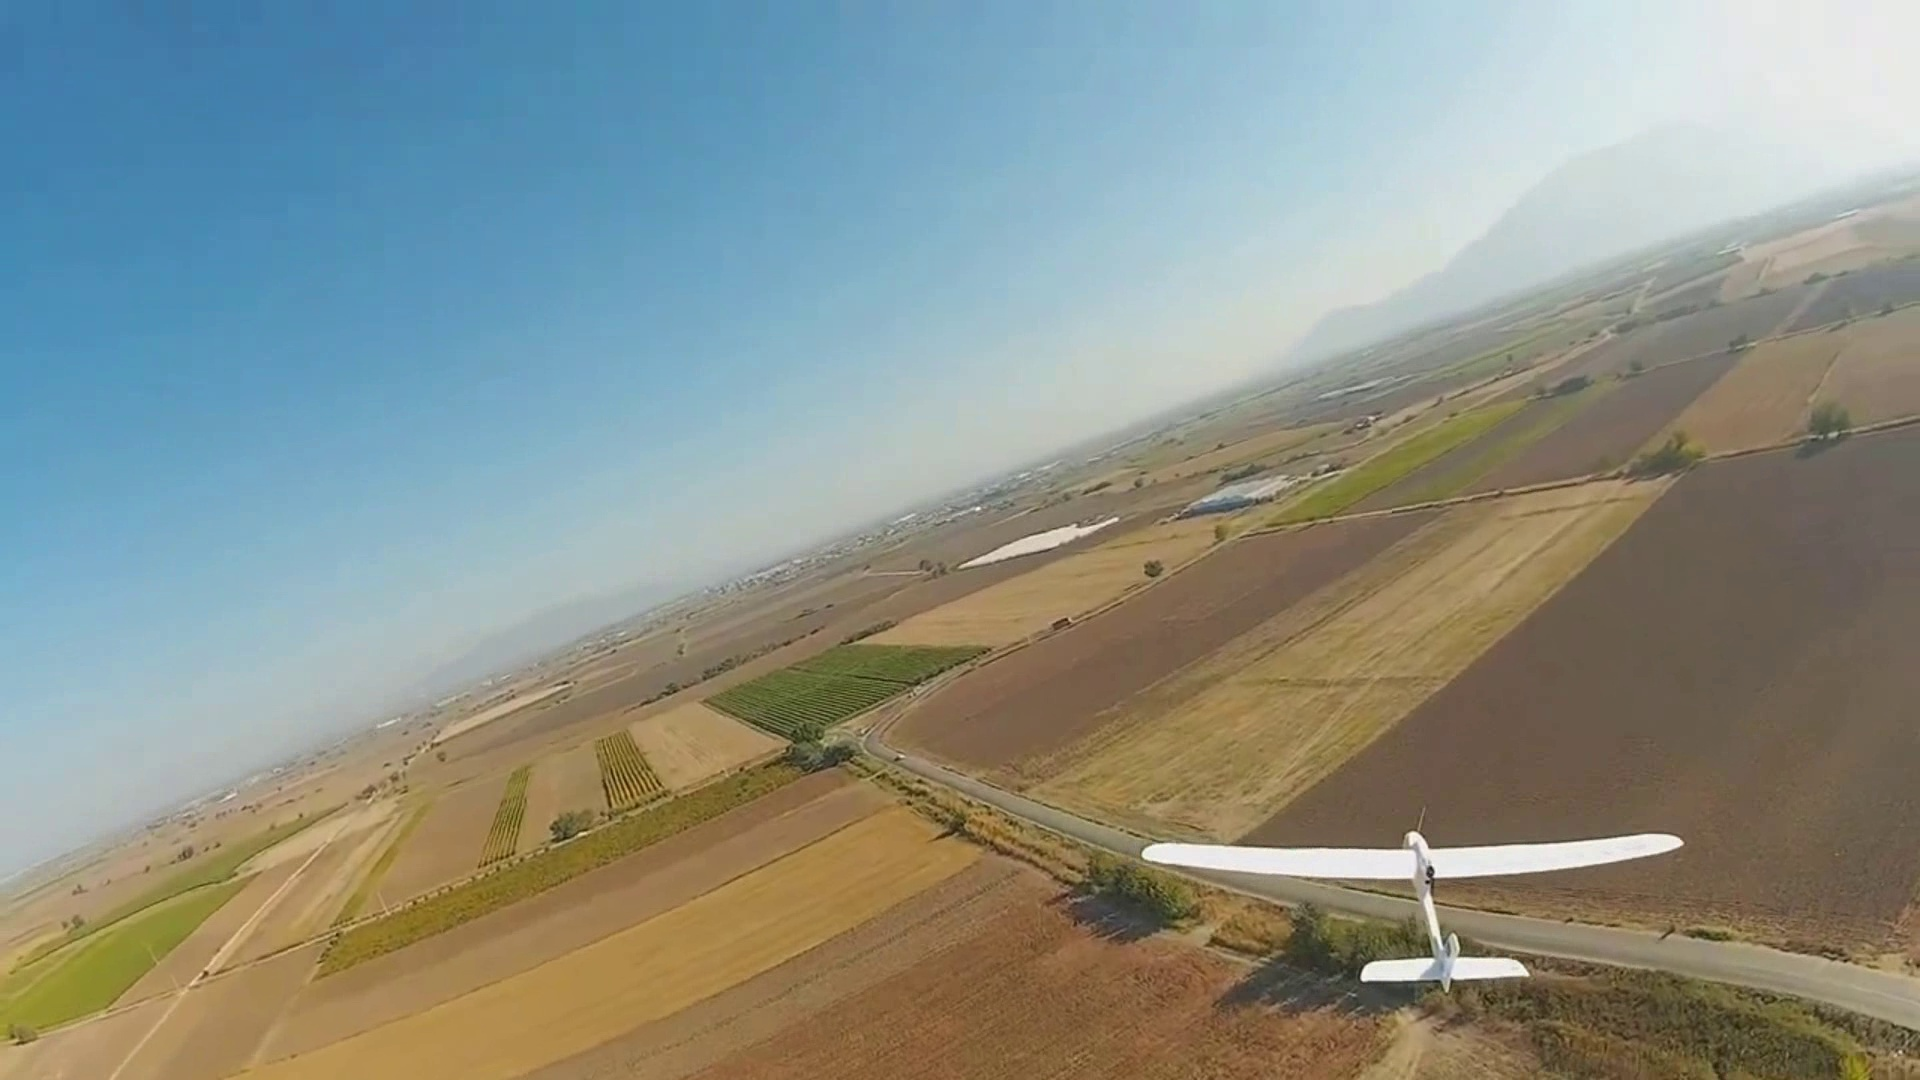airplane: (814, 738, 1690, 992)
